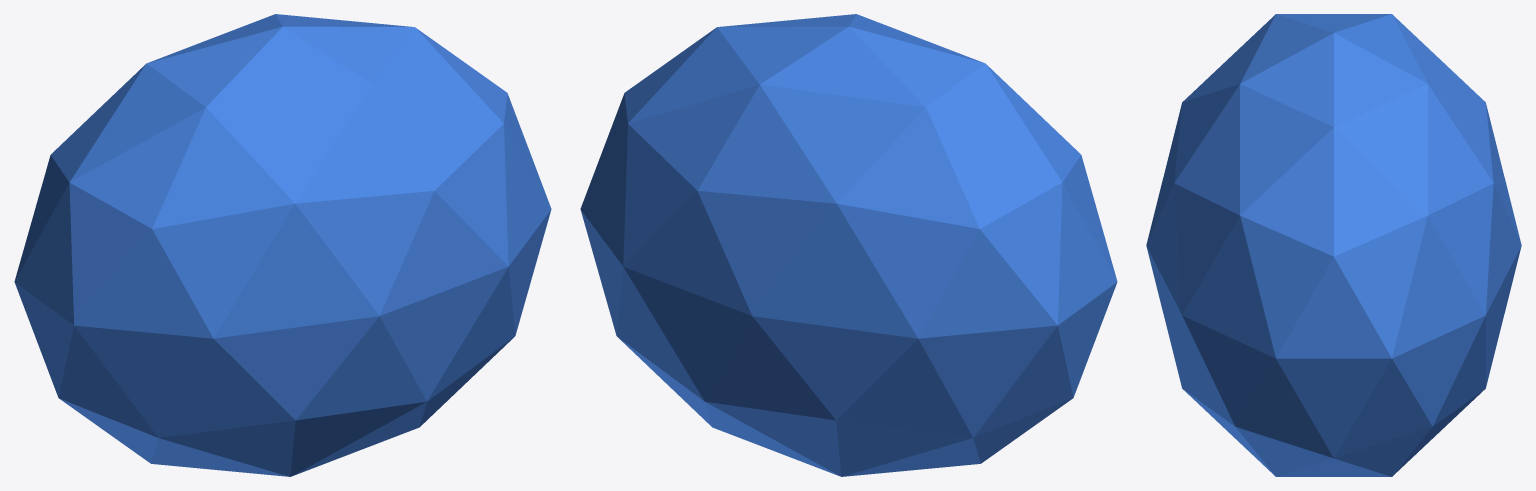
File: RockClimbing_HoldBlue.fbx
3 views of the same model, side by side, from view 1: azimuth 30°, elevation 25°; view 2: azimuth 150°, elevation 25°; view 3: azimuth 270°, elevation 25° (orthographic). The views are drawn at different scales.
Visible parts, largest first — view 1: HoldBlue; view 2: HoldBlue; view 3: HoldBlue.
Part boxes in pixels (bbox=[...]): HoldBlue: bbox=[14, 14, 551, 476]; HoldBlue: bbox=[580, 14, 1117, 476]; HoldBlue: bbox=[1146, 14, 1521, 476].
Size of the model in its own units: 0.2283 by 0.2 by 0.16.
